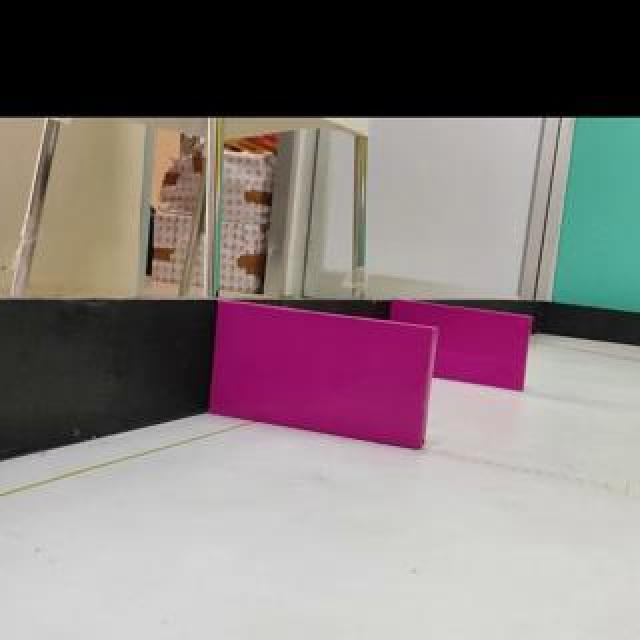xparking: (206, 299, 433, 452), (435, 308, 528, 390)
